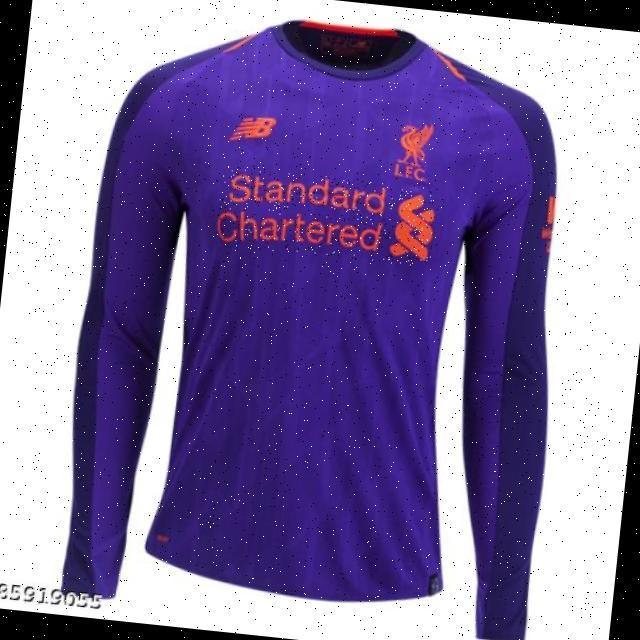Standard Chartered: (215, 165, 438, 267)
